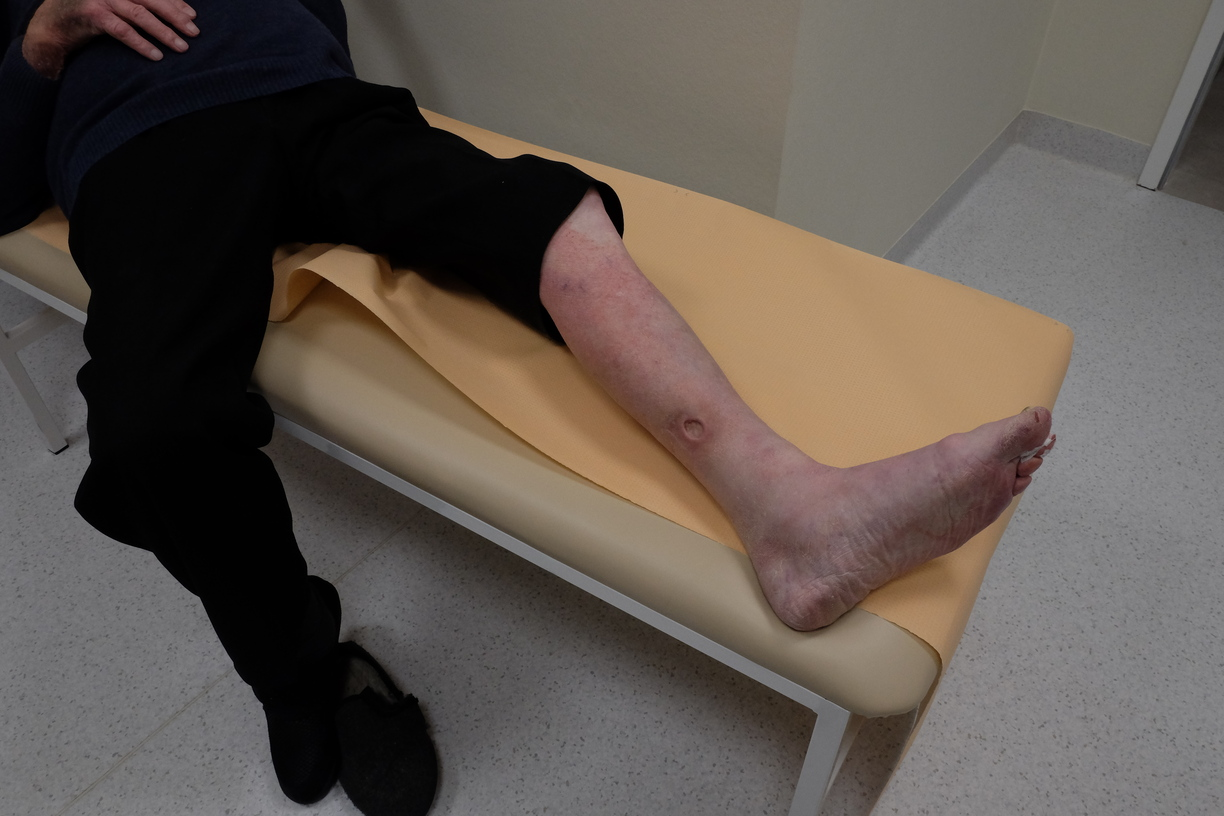wound: (679, 413, 710, 443)
